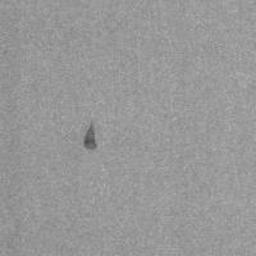Inclusion: (83, 116, 99, 150)
